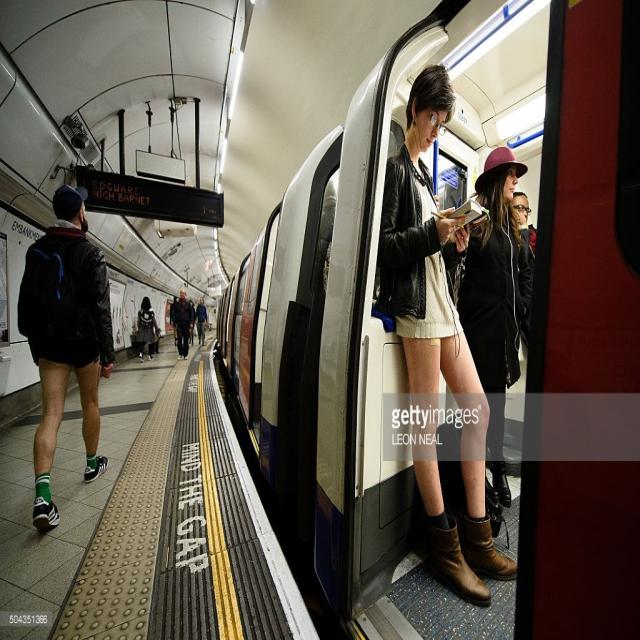body: (375, 59, 521, 605), (14, 176, 118, 537), (456, 143, 529, 512), (508, 180, 540, 401), (136, 294, 162, 364), (167, 294, 199, 349), (172, 286, 195, 362), (194, 295, 208, 347)
